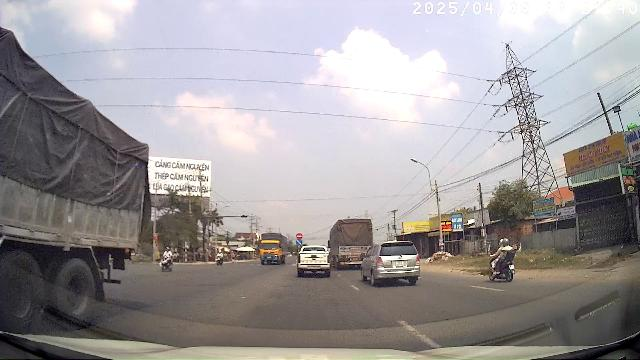102-cam-di-nguoc-chieu: (296, 233, 303, 239)
302a-huong-phai-di-vong-chuong-ngai-vat-1: (296, 239, 302, 246)
